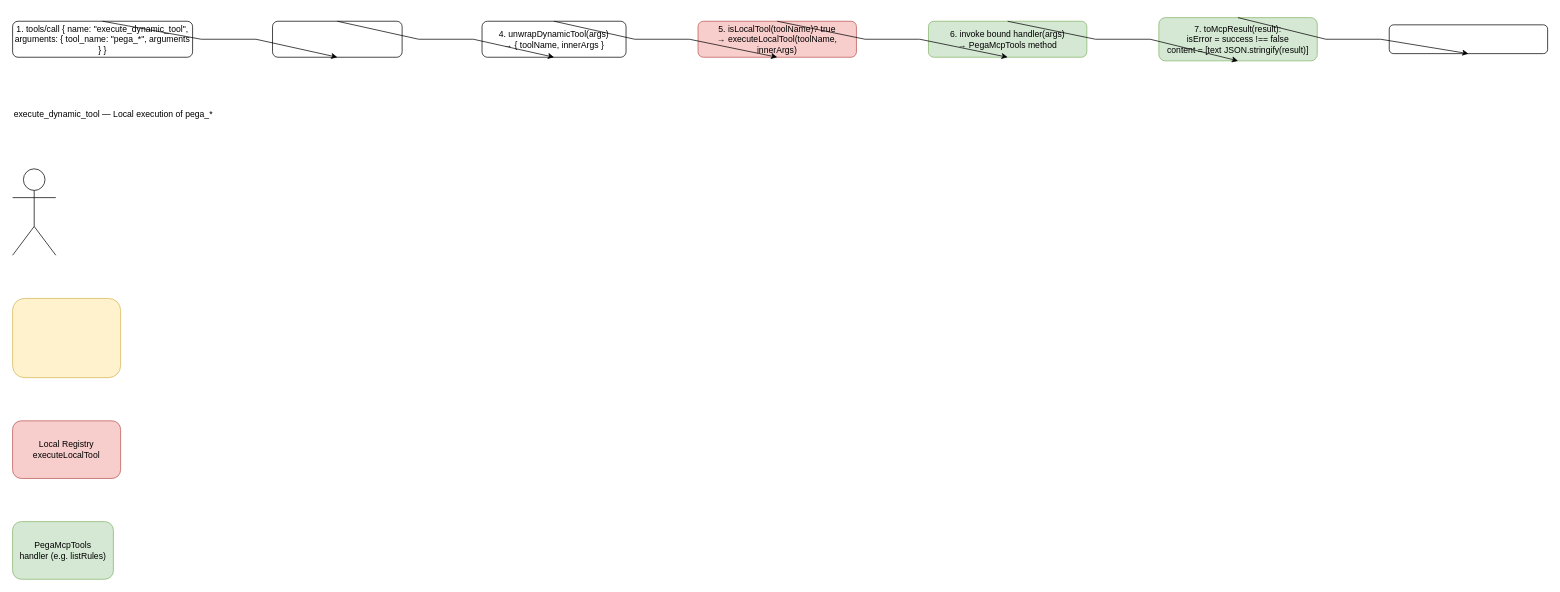
This 1560x592 diagram has some shape labels left out. The shapes that lost their labels are listed below. From the top down, each one's centre as x and y in pixels, then its label:
point 337,39: 2. isLocalTool("execute_dynamic_tool")? false 3. handleDynamic(args)
point 1468,39: 8. return { isError, content } to LLM
point 34,211: LLM
point 66,338: WrapperServer routeToolCall handleDynamic
